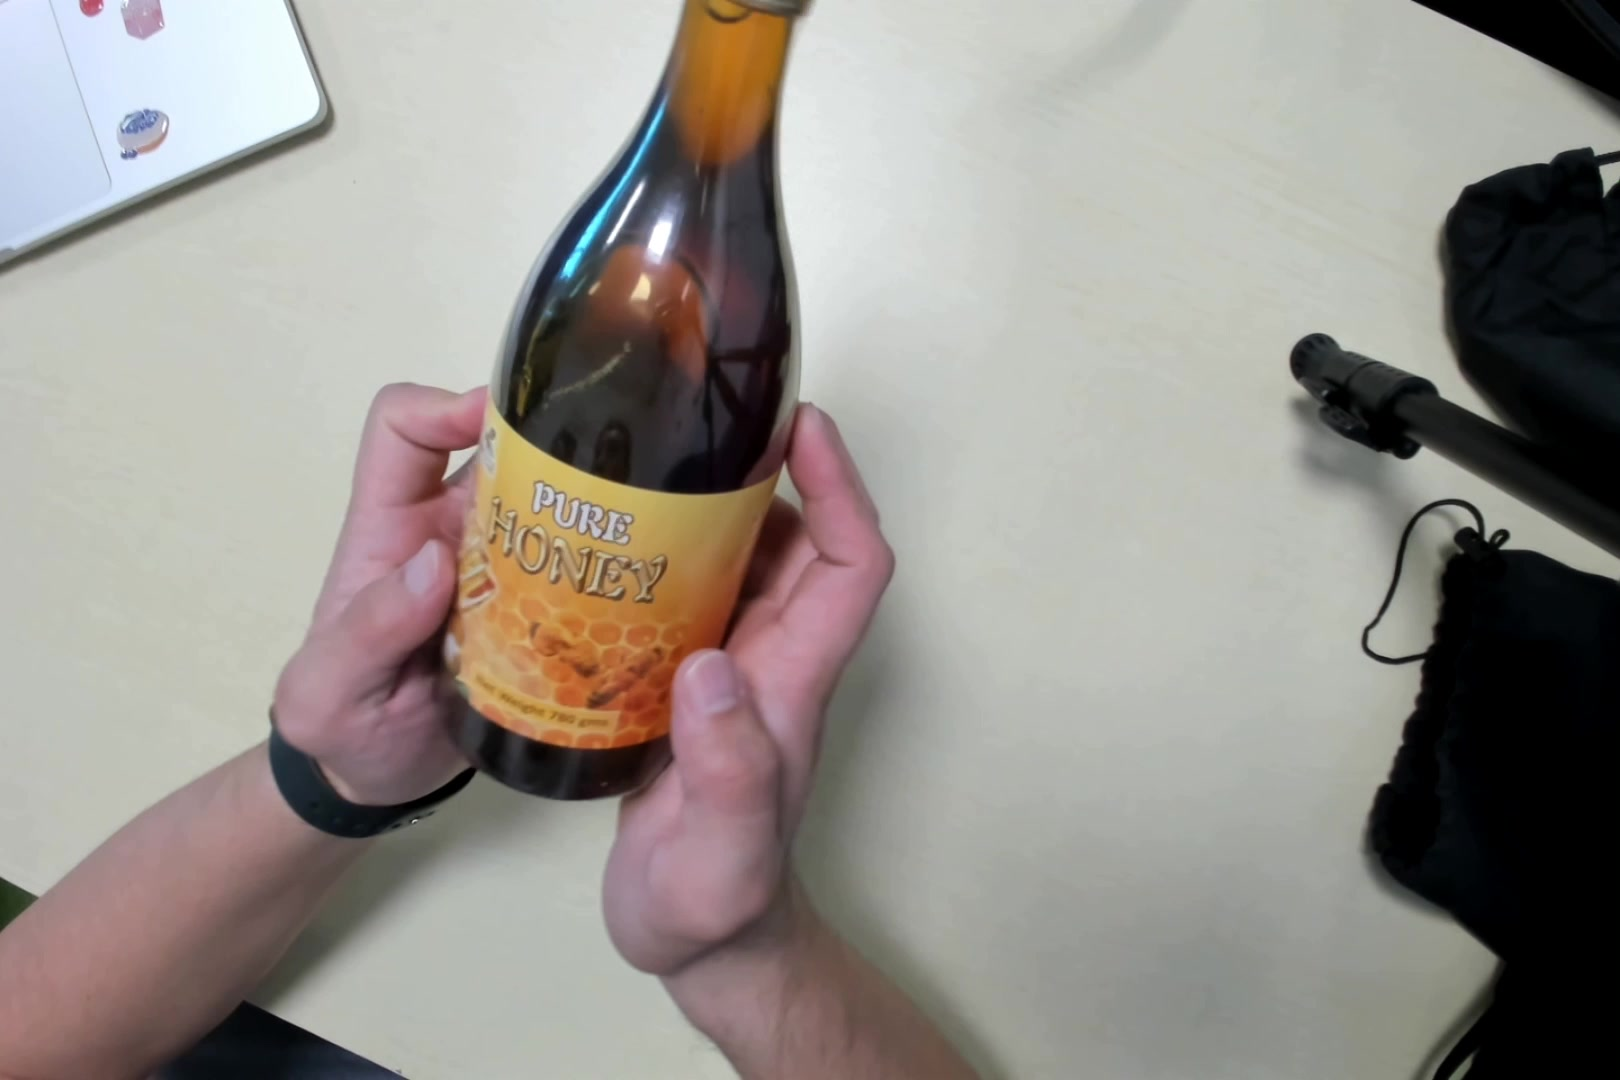OtherBakingNeeds_700-799g_Halal_NonHealthy: (433, 2, 809, 816)
